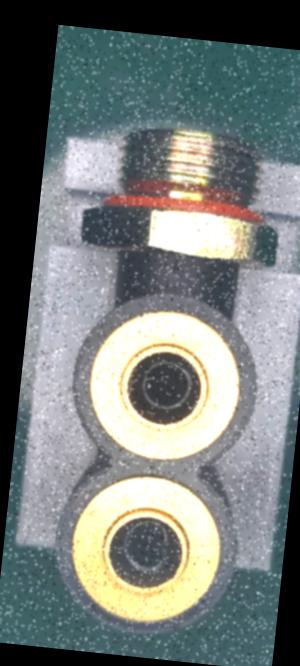craze: (169, 251, 185, 273)
off-centered: (116, 515, 179, 579)
